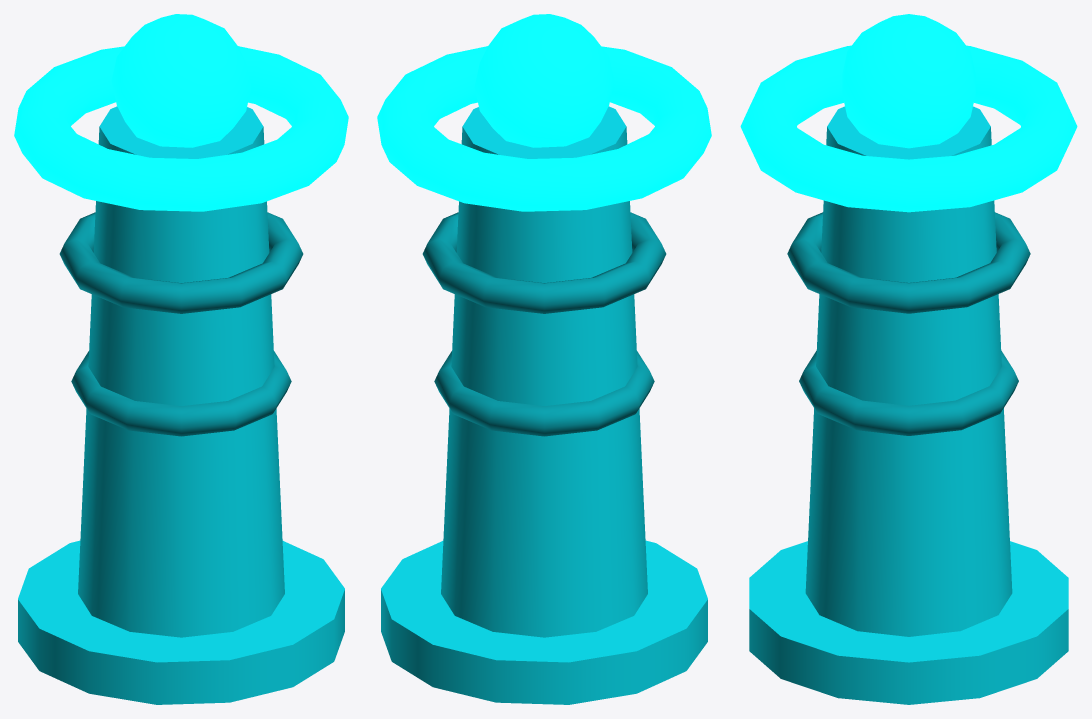
Rendered from bobinas_tesla.glb.
3 views of the same model, side by side, from view 1: azimuth 30°, elevation 25°; view 2: azimuth 150°, elevation 25°; view 3: azimuth 270°, elevation 25° (orthographic).
Visible parts, largest first — view 1: Body, Glow, Detail; view 2: Body, Glow, Detail; view 3: Body, Glow, Detail.
Boxes of the visible parts, box(x1,y1,x2,y2) form: Body: box(18, 106, 344, 704); Glow: box(14, 14, 348, 211); Detail: box(59, 212, 303, 436); Body: box(381, 106, 707, 704); Glow: box(377, 14, 711, 211); Detail: box(422, 212, 666, 436); Body: box(749, 106, 1068, 704); Glow: box(740, 14, 1077, 212); Detail: box(787, 212, 1030, 435).
Bounding box in the file's own units: 0.144 × 0.29 × 0.144.
